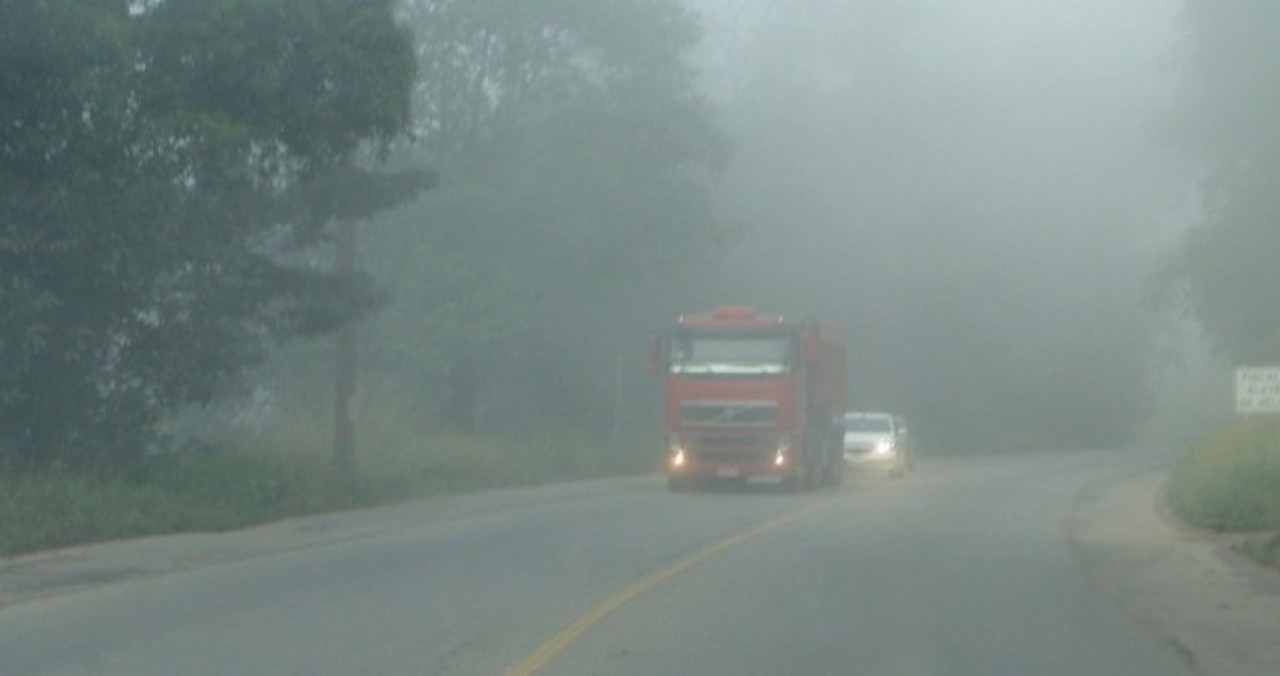car: (840, 411, 909, 476)
truck: (651, 315, 851, 489)
